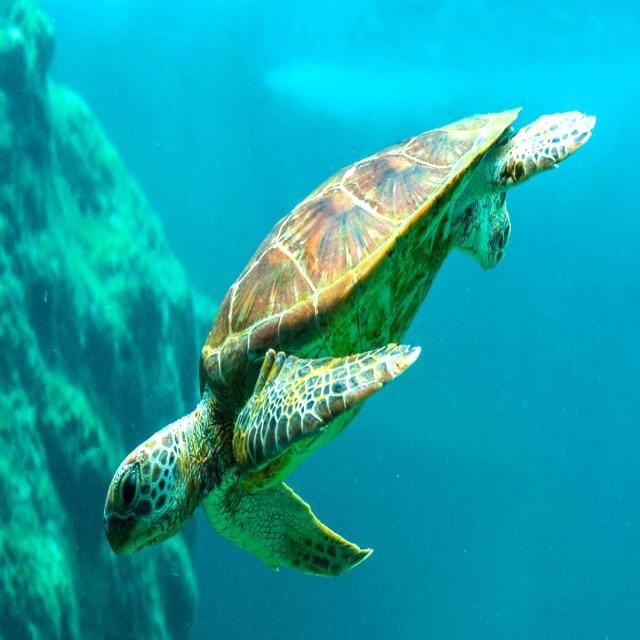Sea turtle: (106, 102, 600, 598)
